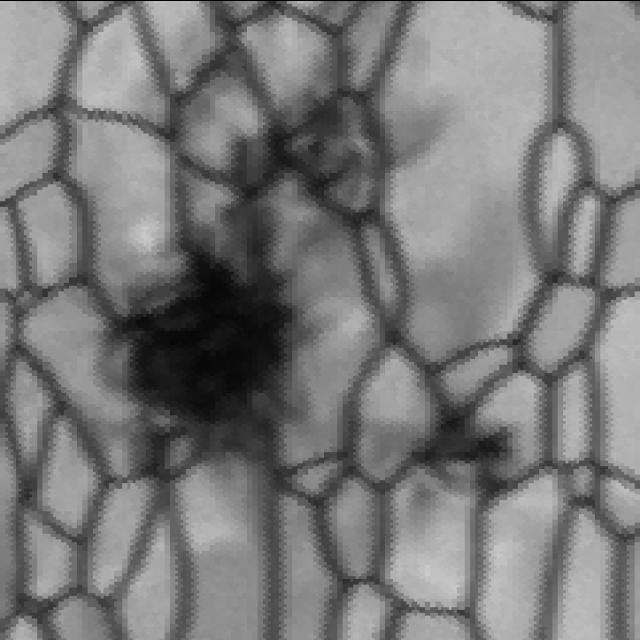good_void: (89, 224, 327, 483), (219, 82, 395, 246), (404, 385, 530, 501)
